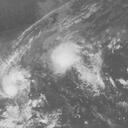cyclone: (47, 39, 87, 74), (4, 69, 28, 99)
